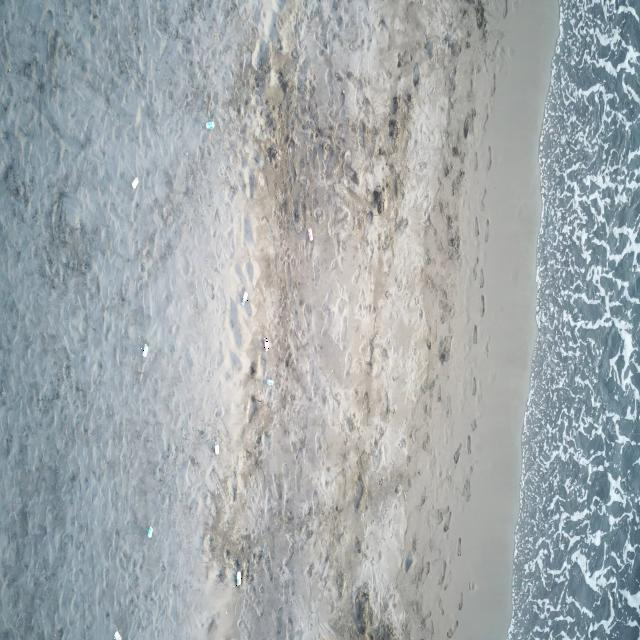tin-and-aluminum-cans: (241, 290, 249, 308), (132, 175, 140, 190), (141, 343, 149, 358), (236, 569, 242, 586), (213, 441, 220, 455), (206, 120, 215, 130), (148, 525, 154, 538), (308, 227, 313, 242), (114, 631, 122, 640), (264, 338, 269, 352), (267, 379, 274, 387)
